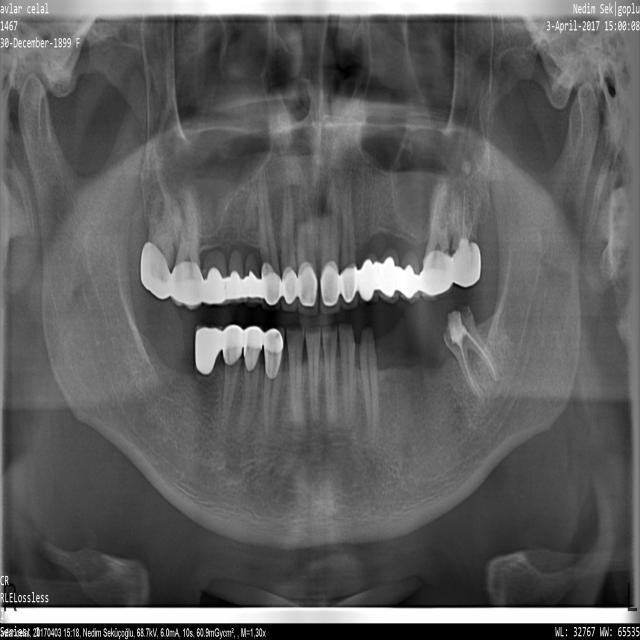Canine: (258, 170, 280, 309), (359, 187, 380, 304), (360, 328, 379, 448), (264, 329, 284, 435)
Incisores: (297, 171, 318, 315), (321, 173, 340, 314), (341, 171, 358, 308), (281, 171, 297, 311), (287, 329, 304, 439), (339, 323, 355, 429), (322, 326, 337, 421), (306, 328, 321, 420)
Premolars: (377, 193, 401, 304), (220, 327, 242, 434), (239, 329, 260, 434), (243, 187, 261, 306), (227, 197, 245, 305)
molars: (443, 306, 501, 398), (420, 179, 455, 301), (170, 191, 201, 308), (189, 326, 222, 419), (201, 198, 228, 306), (398, 204, 425, 303), (452, 192, 481, 284), (147, 195, 172, 296)
